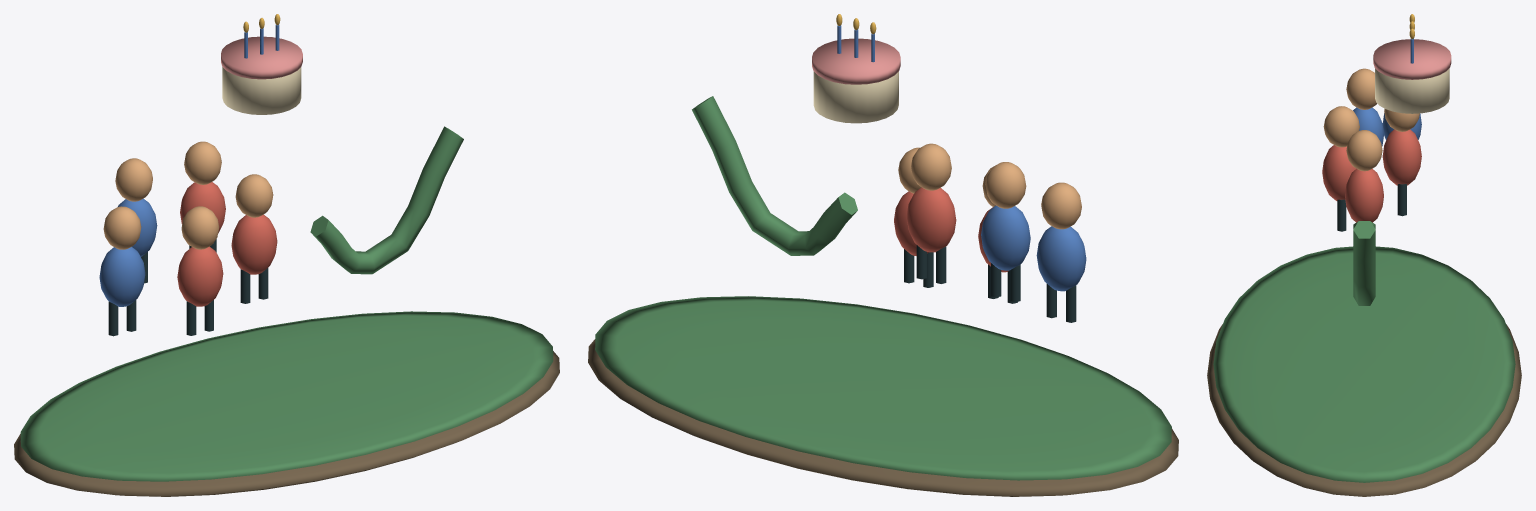
File: complete-third-assembled-can-do.glb
3 views of the same model, side by side, from view 1: azimuth 30°, elevation 25°; view 2: azimuth 150°, elevation 25°; view 3: azimuth 270°, elevation 25° (orthographic). The views are drawn at different scales.
Visible parts, largest first — view 1: complete-third-assembled-can-do_surface_01, complete-third-assembled-can-do_surface_00, complete-third-assembled-can-do_surface_02, complete-third-assembled-can-do_surface_05, complete-third-assembled-can-do_surface_03, complete-third-assembled-can-do_surface_06, complete-third-assembled-can-do_surface_07, complete-third-assembled-can-do_surface_04; view 2: complete-third-assembled-can-do_surface_01, complete-third-assembled-can-do_surface_00, complete-third-assembled-can-do_surface_03, complete-third-assembled-can-do_surface_02, complete-third-assembled-can-do_surface_05, complete-third-assembled-can-do_surface_06, complete-third-assembled-can-do_surface_07, complete-third-assembled-can-do_surface_04; view 3: complete-third-assembled-can-do_surface_01, complete-third-assembled-can-do_surface_00, complete-third-assembled-can-do_surface_05, complete-third-assembled-can-do_surface_02, complete-third-assembled-can-do_surface_07, complete-third-assembled-can-do_surface_06, complete-third-assembled-can-do_surface_03, complete-third-assembled-can-do_surface_04.
Boxes of the visible parts, bbox=[...] form: complete-third-assembled-can-do_surface_01: bbox=[20, 126, 553, 481]; complete-third-assembled-can-do_surface_00: bbox=[14, 351, 559, 496]; complete-third-assembled-can-do_surface_02: bbox=[103, 141, 273, 249]; complete-third-assembled-can-do_surface_05: bbox=[177, 182, 277, 306]; complete-third-assembled-can-do_surface_03: bbox=[99, 24, 279, 306]; complete-third-assembled-can-do_surface_06: bbox=[222, 67, 301, 114]; complete-third-assembled-can-do_surface_07: bbox=[221, 36, 302, 79]; complete-third-assembled-can-do_surface_04: bbox=[108, 239, 268, 336]; complete-third-assembled-can-do_surface_01: bbox=[595, 96, 1171, 480]; complete-third-assembled-can-do_surface_00: bbox=[588, 339, 1178, 496]; complete-third-assembled-can-do_surface_03: bbox=[837, 25, 1086, 291]; complete-third-assembled-can-do_surface_02: bbox=[898, 143, 1081, 229]; complete-third-assembled-can-do_surface_05: bbox=[894, 187, 1008, 272]; complete-third-assembled-can-do_surface_06: bbox=[813, 71, 898, 123]; complete-third-assembled-can-do_surface_07: bbox=[812, 38, 900, 84]; complete-third-assembled-can-do_surface_04: bbox=[904, 245, 1076, 322]; complete-third-assembled-can-do_surface_01: bbox=[1213, 221, 1515, 482]; complete-third-assembled-can-do_surface_00: bbox=[1207, 324, 1521, 496]; complete-third-assembled-can-do_surface_05: bbox=[1322, 129, 1421, 222]; complete-third-assembled-can-do_surface_02: bbox=[1323, 68, 1419, 171]; complete-third-assembled-can-do_surface_07: bbox=[1373, 39, 1451, 79]; complete-third-assembled-can-do_surface_06: bbox=[1375, 68, 1449, 113]; complete-third-assembled-can-do_surface_03: bbox=[1353, 38, 1421, 146]; complete-third-assembled-can-do_surface_04: bbox=[1337, 184, 1406, 231].
Bounding box in the file's own units: 4.56 × 3.24 × 2.5.
